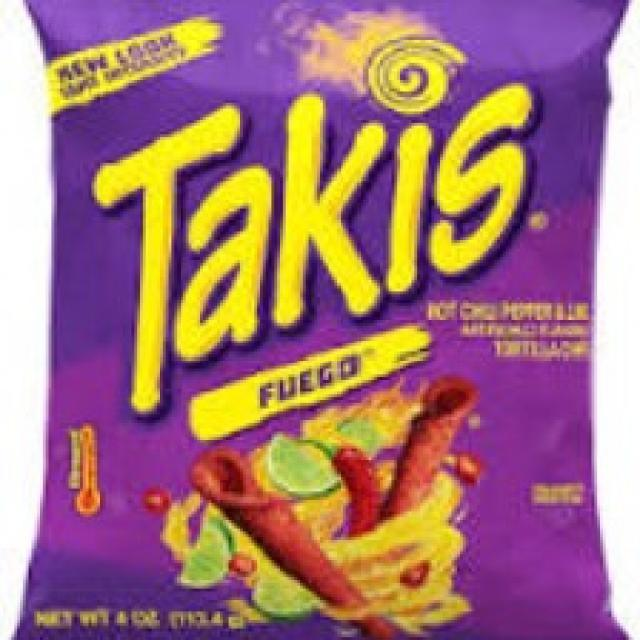plastic: (21, 1, 616, 627)
